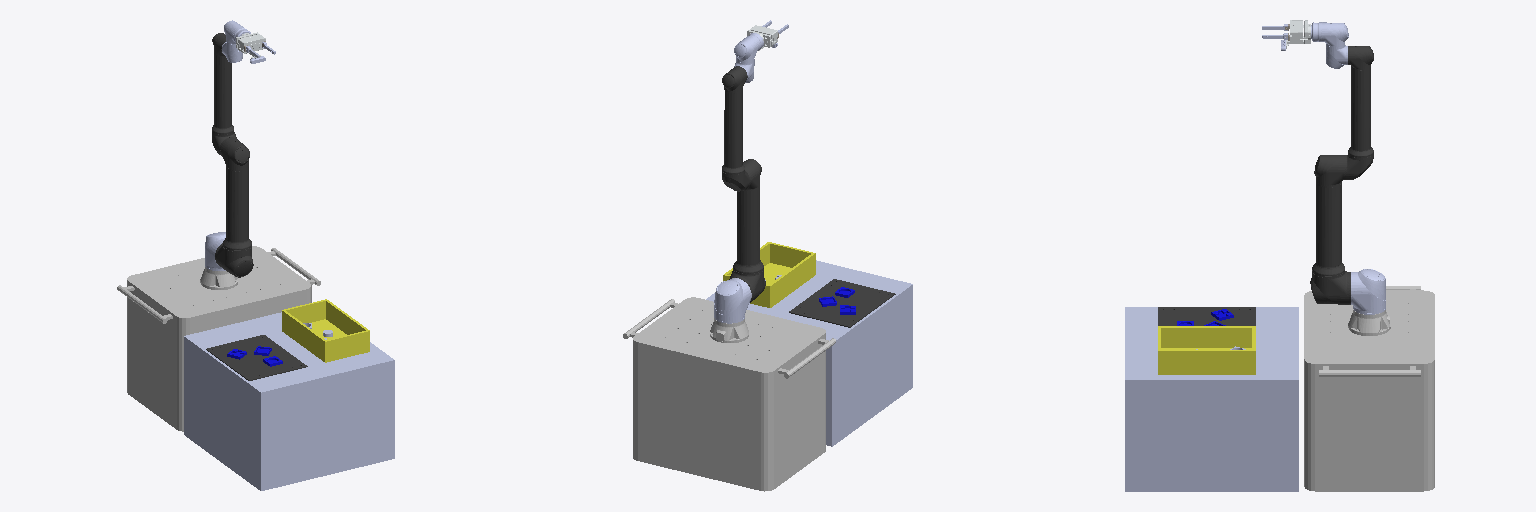
--- Facts derived from the render (not from the file) ---
Views: 3 orthographic renders of the robot side by side, from view 1: azimuth 30°, elevation 25°; view 2: azimuth 150°, elevation 25°; view 3: azimuth 270°, elevation 25°.
Model keti_robot_arm with 26 links and 25 joints (6 revolute, 2 prismatic, 17 fixed), rooted at world, posed all joints at 0.
Visible links, largest first — view 1: table, base, pick, link2, place, link3, base_link, link1; view 2: base, table, link2, pick, link3, place, link1, base_link; view 3: table, base, pick, link2, link3, place, link1, base_link, link5.
Link boxes in pixels (x1,y1,x2,y2): table: (184, 312, 394, 490); base: (117, 246, 320, 431); pick: (282, 299, 369, 362); link2: (215, 138, 253, 277); place: (206, 335, 307, 380); link3: (212, 33, 237, 155); base_link: (200, 267, 237, 289); link1: (205, 232, 225, 270); base: (623, 297, 835, 491); table: (706, 260, 912, 446); link2: (729, 159, 765, 302); pick: (723, 242, 815, 307); link3: (722, 66, 750, 191); place: (789, 279, 895, 327); link1: (714, 278, 751, 323); base_link: (710, 318, 748, 342); table: (1125, 307, 1298, 491); base: (1304, 286, 1434, 491); pick: (1158, 326, 1255, 374); link2: (1310, 155, 1350, 304); link3: (1345, 46, 1373, 179); place: (1158, 307, 1255, 325); link1: (1351, 269, 1385, 314); base_link: (1348, 309, 1390, 335); link5: (1322, 22, 1348, 46).
Bounding box of the posed robot: 0.95 × 1.43 × 2.19 m (x, y, z).
Meshes: 23 distinct files referenced, 23 mesh visuals loaded (23 binary STL).

URDF robot description (keti_robot_arm):
<?xml version="1.0" ?>
<!-- =================================================================================== -->
<!-- |    This document was autogenerated by xacro from [local-path]/Project/4_SDK_challenge/2023/ros_ws/src/sdk_challenge/keti_robot_description/urdf/keti_robot_description.xacro | -->
<!-- |    EDITING THIS FILE BY HAND IS NOT RECOMMENDED                                 | -->
<!-- =================================================================================== -->
<robot name="keti_robot_arm" xmlns:controller="http://playerstage.sourceforge.net/gazebo/xmlschema/#controller" xmlns:interface="http://playerstage.sourceforge.net/gazebo/xmlschema/#interface" xmlns:sensor="http://playerstage.sourceforge.net/gazebo/xmlschema/#sensor">
    <link name="world" />
    <joint name="base_joint" type="fixed">
        <origin rpy="0 0 0" xyz="0 0 0.6499999761581421" />
        <parent link="world" />
        <child link="base_link" />
    </joint>
    <link name="base_link">
        <inertial>
            <origin rpy="0.0 0.0 0.0" xyz="-3.36084696400674E-05 0.00028713387556778 0.0438378186374772" />
            <mass value="2.25213983841171" />
            <inertia ixx="0.00610179267270193" ixy="5.05489700638155E-06" ixz="-2.06579420136556E-06" iyy="0.00603383828429949" iyz="-2.85750001496908E-06" izz="0.00860649294977137" />
        </inertial>
        <visual name="">
            <origin rpy="0.0 0.0 0.0" xyz="0.0 0.0 0.0" />
            <geometry>
                <mesh filename="package://keti_robot_description/meshes/base_link.STL" />
            </geometry>
            <material name="">
                <color rgba="0.8 0.8 0.8 1" />
            </material>
        </visual>
        <collision>
            <origin rpy="0.0 0.0 0.0" xyz="0.0 0.0 0.0" />
            <geometry>
                <mesh filename="package://keti_robot_description/meshes/base_link.STL" />
            </geometry>
        </collision>
    </link>
    <link name="link1">
        <inertial>
            <origin rpy="0.0 0.0 0.0" xyz="-0.000155596593394897 -0.0115300991030924 0.185903011387218" />
            <mass value="3.38716123949166" />
            <inertia ixx="0.00965712344078406" ixy="2.56321142215039E-06" ixz="-2.07213259316219E-06" iyy="0.00999757711288239" iyz="0.00227412846191921" izz="0.00985394828837277" />
        </inertial>
        <visual name="">
            <origin rpy="0.0 0.0 0.0" xyz="0.0 0.0 0.0" />
            <geometry>
                <mesh filename="package://keti_robot_description/meshes/link1.STL" />
            </geometry>
            <material name="">
				<color rgba="0.792156862745098 0.819607843137255 0.933333333333333 1" />
            </material>
        </visual>
        <collision>
            <origin rpy="0.0 0.0 0.0" xyz="0.0 0.0 0.0" />
            <geometry>
                <mesh filename="package://keti_robot_description/meshes/link1.STL" />
            </geometry>
        </collision>
    </link>
    <link name="link2">
        <inertial>
            <origin rpy="0.0 0.0 0.0" xyz="-5.04047652291201E-05 -0.255908501214572 -0.182094524542086" />
            <mass value="10.3635885023069" />
            <inertia ixx="0.120627099316039" ixy="2.65066669408744E-06" ixz="2.16897828737298E-06" iyy="0.0227437773556374" iyz="-0.0016029791309899" izz="0.120841683724806" />
        </inertial>
        <visual name="">
            <origin rpy="0.0 0.0 0.0" xyz="0.0 0.0 0.0" />
            <geometry>
                <mesh filename="package://keti_robot_description/meshes/link2.STL" />
            </geometry>
            <material name="">
                <color rgba="0.294117647058824 0.294117647058824 0.294117647058824 1" />
            </material>
        </visual>
        <collision>
            <origin rpy="0.0 0.0 0.0" xyz="0.0 0.0 0.0" />
            <geometry>
                <mesh filename="package://keti_robot_description/meshes/link2.STL" />
            </geometry>
        </collision>
    </link>
    <link name="link3">
        <inertial>
            <origin rpy="0.0 0.0 0.0" xyz="0.266215180264014 1.29712622268241E-07 0.143135404945513" />
            <mass value="5.05083741641896" />
            <inertia ixx="0.00628902623789062" ixy="9.1337717733775E-09" ixz="-0.000370519945348952" iyy="0.061756757690725" iyz="-1.56347717729795E-09" izz="0.0618362170084191" />
        </inertial>
        <visual name="">
            <origin rpy="0.0 0.0 0.0" xyz="0.0 0.0 0.0" />
            <geometry>
                <mesh filename="package://keti_robot_description/meshes/link3.STL" />
            </geometry>
            <material name="">
                <color rgba="0.294117647058824 0.294117647058824 0.294117647058824 1" />
            </material>
        </visual>
        <collision>
            <origin rpy="0.0 0.0 0.0" xyz="0.0 0.0 0.0" />
            <geometry>
                <mesh filename="package://keti_robot_description/meshes/link3.STL" />
            </geometry>
        </collision>
    </link>
    <link name="link4">
        <inertial>
            <origin rpy="0.0 0.0 0.0" xyz="0.00564731690989118 -2.03600273793181E-07 -0.111294177443476" />
            <mass value="0.809634247265308" />
            <inertia ixx="0.000806283674225212" ixy="-1.71998154303632E-08" ixz="0.000215199499704635" iyy="0.000838076862135837" iyz="-7.62439682589746E-09" izz="0.00088136714943862" />
        </inertial>
        <visual name="">
            <origin rpy="0.0 0.0 0.0" xyz="0.0 0.0 0.0" />
            <geometry>
                <mesh filename="package://keti_robot_description/meshes/link4.STL" />
            </geometry>
            <material name="">
                <color rgba="0.792156862745098 0.819607843137255 0.933333333333333 1" />
                <texture filename="" />
            </material>
        </visual>
        <collision>
            <origin rpy="0.0 0.0 0.0" xyz="0.0 0.0 0.0" />
            <geometry>
                <mesh filename="package://keti_robot_description/meshes/link4.STL" />
            </geometry>
        </collision>
    </link>
    <link name="link5">
        <inertial>
            <origin rpy="0.0 0.0 0.0" xyz="3.79221289037446E-07 -0.0065154111458714 0.111384778201544" />
            <mass value="0.822358399005338" />
            <inertia ixx="0.00086697648332544" ixy="-4.3209208438896E-09" ixz="-3.43499554605311E-09" iyy="0.00082200885145279" iyz="0.000222523008866456" izz="0.000907682647219081" />
        </inertial>
        <visual name="">
            <origin rpy="0.0 0.0 0.0" xyz="0.0 0.0 0.0" />
            <geometry>
                <mesh filename="package://keti_robot_description/meshes/link5.STL" />
            </geometry>
            <material name="">
                <color rgba="0.792156862745098 0.819607843137255 0.933333333333333 1" />
                <texture filename="" />
            </material>
        </visual>
        <collision>
            <origin rpy="0.0 0.0 0.0" xyz="0.0 0.0 0.0" />
            <geometry>
                <mesh filename="package://keti_robot_description/meshes/link5.STL" />
            </geometry>
        </collision>
    </link>
    <link name="link6">
        <inertial>
            <origin rpy="0.0 0.0 0.0" xyz="-2.74288486201701E-07 -0.000235269428608742 -0.0906803365828259" />
            <mass value="0.237678022472349" />
            <inertia ixx="0.000145950216129124" ixy="-1.23036106344042E-09" ixz="-7.04161447052051E-10" iyy="0.000148314461323765" iyz="5.7765854614293E-07" izz="0.000234953691644831" />
        </inertial>
        <visual name="">
            <origin rpy="0.0 0.0 0.0" xyz="0.0 0.0 0.0" />
            <geometry>
                <mesh filename="package://keti_robot_description/meshes/link6.STL" />
            </geometry>
            <material name="">
                <color rgba="0.792156862745098 0.819607843137255 0.933333333333333 1" />
			</material>
        </visual>
        <collision>
            <origin rpy="0.0 0.0 0.0" xyz="0.0 0.0 0.0" />
            <geometry>
                <mesh filename="package://keti_robot_description/meshes/link6.STL" />
            </geometry>
        </collision>
    </link>
    <joint name="q1" type="revolute">
        <origin rpy="0.0 0.0 0.0" xyz="0.0 0.0 0.0" />
        <parent link="base_link" />
        <child link="link1" />
        <axis xyz="0.0 0.0 1.0" />
        <limit effort="10" lower="-6.3" upper="6.3" velocity="100" />
        <dynamics damping="50" friction="1" />
    </joint>
    <joint name="q2" type="revolute">
        <origin rpy="-1.5708 0.0 0.0" xyz="0.0 0.0 0.198" />
        <parent link="link1" />
        <child link="link2" />
        <axis xyz="0.0 0.0 1.0" />
        <limit effort="1000" lower="-6.3" upper="6.3" velocity="100" />
        <dynamics damping="50" friction="1" />
    </joint>
    <joint name="q3" type="revolute">
        <origin rpy="0.0 0.0 -1.5708" xyz="0.0 -0.6127 -0.1875" />
        <parent link="link2" />
        <child link="link3" />
        <axis xyz="0.0 0.0 1.0" />
        <limit effort="10" lower="-6.3" upper="6.3" velocity="100" />
        <dynamics damping="50" friction="1" />
    </joint>
    <joint name="q4" type="revolute">
        <origin rpy="0.0 0.0 0.0" xyz="0.57015 0 0.1484" />
        <parent link="link3" />
        <child link="link4" />
        <axis xyz="0.0 0.0 1.0" />
        <limit effort="10" lower="-6.3" upper="6.3" velocity="100" />
        <dynamics damping="50" friction="1" />
    </joint>
    <joint name="q5" type="revolute">
        <origin rpy="1.5708 0 1.5708" xyz="0 0 -0.11715" />
        <parent link="link4" />
        <child link="link5" />
        <axis xyz="0.0 0.0 1.0" />
        <limit effort="10" lower="-6.3" upper="6.3" velocity="100" />
        <dynamics damping="50" friction="1" />
    </joint>
    <joint name="q6" type="revolute">
        <origin rpy="-1.5708 0 0" xyz="0 0 0.11715" />
        <parent link="link5" />
        <child link="link6" />
        <axis xyz="0.0 0.0 1.0" />
        <limit effort="10" lower="-6.3" upper="6.3" velocity="100" />
        <dynamics damping="50" friction="1" />
    </joint>
    <link name="gripper_body">
        <inertial>
            <origin rpy="0.0 0.0 0.0" xyz="-3.45920909952668E-05 -0.0477817173459312 -0.00571131983067263" />
            <mass value="0.933264814357233" />
            <inertia ixx="0.000450791407921585" ixy="4.50924518749628E-07" ixz="-7.44739815604934E-07" iyy="0.00142129108945366" iyz="-3.93915847422977E-06" izz="0.00128066984792434" />
        </inertial>
        <visual name="">
            <origin rpy="0.0 0.0 0.0" xyz="0.0 0.0 0.0" />
            <geometry>
                <mesh filename="package://keti_robot_description/meshes/gripper_body.STL" />
            </geometry>
            <material name="">
                <color rgba="0.898039215686275 0.917647058823529 0.929411764705882 1" />
            </material>
        </visual>
        <collision>
            <origin rpy="0.0 0.0 0.0" xyz="0.0 0.0 0.0" />
            <geometry>
                <mesh filename="package://keti_robot_description/meshes/gripper_body.STL" />
            </geometry>
        </collision>
    </link>
    <link name="gripper_tool1">
        <inertial>
            <origin rpy="0.0 0.0 0.0" xyz="-0.0503901981194649 -0.00839540838169439 -0.000187095087317068" />
            <mass value="0.0524980209707729" />
            <inertia ixx="4.96961994940061E-06" ixy="9.16328438600949E-07" ixz="-9.29191075202697E-08" iyy="5.26806301784339E-06" iyz="3.76648518766332E-08" izz="4.33143562379133E-06" />
        </inertial>
        <visual name="">
            <origin rpy="0.0 0.0 0.0" xyz="0.0 0.0 0.0" />
            <geometry>
                <mesh filename="package://keti_robot_description/meshes/gripper_tool1.STL" />
            </geometry>
            <material name="">
                <color rgba="0.650980392156863 0.619607843137255 0.588235294117647 1" />
            </material>
        </visual>
        <collision>
            <origin rpy="0.0 0.0 0.0" xyz="0.0 0.0 0.0" />
            <geometry>
                <mesh filename="package://keti_robot_description/meshes/gripper_tool1.STL" />
            </geometry>
        </collision>
    </link>
    <link name="gripper_finger1">
        <inertial>
            <origin rpy="0.0 0.0 0.0" xyz="-0.047830477436016 -0.0616732966021152 -4.02028360380058E-07" />
            <mass value="0.0233180451311379" />
            <inertia ixx="2.40087905135542E-05" ixy="3.97733646582783E-07" ixz="-1.76194958848478E-12" iyy="1.26145385442102E-06" iyz="-3.65200575464404E-11" izz="2.34253553003692E-05" />
        </inertial>
        <visual name="">
            <origin rpy="0.0 0.0 0.0" xyz="0.0 0.0 0.0" />
            <geometry>
                <mesh filename="package://keti_robot_description/meshes/gripper_finger1.STL" />
            </geometry>
            <material name="">
                <color rgba="0.792156862745098 0.819607843137255 0.933333333333333 1" />
            </material>
        </visual>
        <collision>
            <origin rpy="0.0 0.0 0.0" xyz="0.0 0.0 0.0" />
            <geometry>
                <mesh filename="package://keti_robot_description/meshes/gripper_finger1.STL" />
            </geometry>
        </collision>
    </link>
    <link name="gripper_tool2">
        <inertial>
            <origin rpy="0.0 0.0 0.0" xyz="0.050390198119466 -0.00839540838169439 0.000187095087317957" />
            <mass value="0.052498020970773" />
            <inertia ixx="4.96961994940061E-06" ixy="-9.1632843860095E-07" ixz="-9.29191075202696E-08" iyy="5.2680630178434E-06" iyz="-3.76648518766344E-08" izz="4.33143562379133E-06" />
        </inertial>
        <visual name="">
            <origin rpy="0.0 0.0 0.0" xyz="0.0 0.0 0.0" />
            <geometry>
                <mesh filename="package://keti_robot_description/meshes/gripper_tool2.STL" />
            </geometry>
            <material name="">
                <color rgba="0.650980392156863 0.619607843137255 0.588235294117647 1" />
            </material>
        </visual>
        <collision>
            <origin rpy="0.0 0.0 0.0" xyz="0.0 0.0 0.0" />
            <geometry>
                <mesh filename="package://keti_robot_description/meshes/gripper_tool2.STL" />
            </geometry>
        </collision>
    </link>
    <link name="gripper_finger2">
        <inertial>
            <origin rpy="0.0 0.0 0.0" xyz="0.0478304774360172 -0.0616732966021147 4.02028361046192E-07" />
            <mass value="0.0233180451311379" />
            <inertia ixx="2.40087905135545E-05" ixy="-3.97733646582811E-07" ixz="-1.7619495854565E-12" iyy="1.26145385442102E-06" iyz="3.6520057602396E-11" izz="2.34253553003694E-05" />
        </inertial>
        <visual name="">
            <origin rpy="0.0 0.0 0.0" xyz="0.0 0.0 0.0" />
            <geometry>
                <mesh filename="package://keti_robot_description/meshes/gripper_finger2.STL" />
            </geometry>
            <material name="">
                <color rgba="0.792156862745098 0.819607843137255 0.933333333333333 1" />
            </material>
        </visual>
        <collision>
            <origin rpy="0.0 0.0 0.0" xyz="0.0 0.0 0.0" />
            <geometry>
                <mesh filename="package://keti_robot_description/meshes/gripper_finger2.STL" />
            </geometry>
        </collision>
    </link>
    <link name="cam_body">
        <inertial>
            <origin rpy="0 0 0" xyz="0.0014399625101349 -5.94806382812063E-05 -0.0144824351521329" />
            <mass value="0.0224324424296924" />
            <inertia ixx="1.5561270767764E-06" ixy="-1.37007630764484E-09" ixz="1.48641223628634E-07" iyy="1.39866481202687E-05" iyz="-2.3852444733374E-09" izz="1.4977644157627E-05" />
        </inertial>
        <visual name="">
            <origin rpy="0 0 0" xyz="0 0 0" />
            <geometry>
                <mesh filename="package://keti_robot_description/meshes/cam.STL" />
            </geometry>
            <material name="">
                <color rgba="0.792156862745098 0.819607843137255 0.933333333333333 1" />
            </material>
        </visual>
        <collision>
            <origin rpy="0 0 0" xyz="0 0 0" />
            <geometry>
                <mesh filename="package://keti_robot_description/meshes/cam.STL" />
            </geometry>
        </collision>
    </link>
    <joint name="link6_gripper_fixed" type="fixed">
        <origin rpy="1.5708 0.0 0.0" xyz="0.0 0.0 -0.1148" />
        <parent link="link6" />
        <child link="gripper_body" />
    </joint>
    <joint name="s1" type="prismatic">
        <origin rpy="0.0 0.0 0.0" xyz="0.0 -0.0962 0.0" />
        <parent link="gripper_body" />
        <child link="gripper_tool1" />
        <axis xyz="1.0 0.0 0.0" />
        <limit effort="10" lower="0.0" upper="0.04" velocity="100" />
        <dynamics damping="50" friction="1" />
    </joint>
    <joint name="tool_finger1_fixed" type="fixed">
        <origin rpy="0.0 0.0 0.0" xyz="0.0 0.0 0.0" />
        <parent link="gripper_tool1" />
        <child link="gripper_finger1" />
    </joint>
    <joint name="s2" type="prismatic">
        <origin rpy="0.0 0.0 0.0" xyz="0.0 -0.0962 0.0" />
        <parent link="gripper_body" />
        <child link="gripper_tool2" />
        <axis xyz="-1.0 0.0 0.0" />
        <limit effort="10" lower="0.0" upper="0.04" velocity="100" />
        <dynamics damping="50" friction="1" />
    </joint>
    <joint name="tool_finger2_fixed" type="fixed">
        <origin rpy="0.0 0.0 0.0" xyz="0.0 0.0 0.0" />
        <parent link="gripper_tool2" />
        <child link="gripper_finger2" />
    </joint>
    <joint name="gripper_cam_fixed" type="fixed">
        <origin rpy="1.5708 0 0" xyz="0 -0.13845 -0.0685" />
        <parent link="gripper_body" />
        <child link="cam_body" />
    </joint>
    <link name="cam" />
    <joint name="cam_joint" type="fixed">
        <origin rpy="-1.5708 -1.5708 3.141592" xyz="0 0 0" />
        <parent link="cam_body" />
        <child link="cam" />
    </joint>
    <link name="cam_optical" />
    <joint name="cam_optical_joint" type="fixed">
        <origin rpy="-1.57 0.0 -1.57" xyz="0.0 0.0 0.0" />
        <parent link="cam" />
        <child link="cam_optical" />
    </joint>
    <gazebo reference="cam">
        <sensor name="Realsense" type="camera">
            <always_on>true</always_on>
            <visualize>true</visualize>
            <camera>
                <horizontal_fov>1.085595</horizontal_fov>
                <image>
                    <width>640</width>
                    <height>480</height>
                    <format>R8G8B8</format>
                </image>
                <clip>
                    <near>0.03</near>
                    <far>100</far>
                </clip>
            </camera>
            <plugin filename="libgazebo_ros_camera.so" name="camera_controller">
                <alwyasOn>true</alwyasOn>
                <updateRate>30.0</updateRate>
                <cameraName>camera</cameraName>
                <frameName>cam_optical</frameName>
                <imageTopicName>rgb/image_raw</imageTopicName>
                <cameraInfoTopicName>rgb/camera_info</cameraInfoTopicName>
                <hackBaselink>0.07</hackBaselink>
                <distortionK1>0.0</distortionK1>
                <distortionK2>0.0</distortionK2>
                <distortionK3>0.0</distortionK3>
                <distortionT1>0.0</distortionT1>
                <distortionT2>0.0</distortionT2>
            </plugin>
        </sensor>
        <plugin name="gazebo_ros_control">
            <robotNamespace>/</robotNamespace>
        </plugin>
    </gazebo>
    <link name="base">
        <inertial>
            <origin rpy="0.0 0.0 0.0" xyz="-1.28688321068826E-06 0.000310942291804728 -0.323288844730514" />
            <mass value="838.015231637391" />
            <inertia ixx="54.3575108059622" ixy="-3.81584107573326E-15" ixz="6.11415690387546E-16" iyy="74.0754281872674" iyz="6.12342523382769E-17" izz="69.561169810993" />
        </inertial>
        <visual name="">
            <origin rpy="0.0 0.0 0.0" xyz="0.0 0.0 0.0" />
            <geometry>
                <mesh filename="package://keti_robot_description/meshes/base.STL" />
            </geometry>
            <material name="">
                <color rgba="0.8 0.8 0.8 1" />
            </material>
        </visual>
        <collision>
            <origin rpy="0.0 0.0 0.0" xyz="0.0 0.0 0.0" />
            <geometry>
                <mesh filename="package://keti_robot_description/meshes/base.STL" />
            </geometry>
        </collision>
	</link>
    <link name="place">
        <inertial>
            <origin rpy="0 0 0" xyz="-0.210001286883211 -0.749689057708196 -0.0805000000000003" />
            <mass value="0.785447283360145" />
            <inertia ixx="0.0132205587747909" ixy="1.32472975100367E-18" ixz="2.03192199097574E-21" iyy="0.0080030601215886" iyz="6.46234853556509E-24" izz="0.0212203461993655" />
        </inertial>
        <visual>
            <origin rpy="0 0 0" xyz="0 0 0" />
            <geometry>
                <mesh filename="package://keti_robot_description/meshes/place.STL" />
            </geometry>
			<material name="">
				<color rgba="0.3 0.3 0.3 1" />
			</material>
        </visual>
        <collision>
            <origin rpy="0 0 0" xyz="0 0 0" />
            <geometry>
                <mesh filename="package://keti_robot_description/meshes/place.STL" />
            </geometry>
        </collision>
	</link>
    <joint name="base_plate_fixed" type="fixed">
        <origin rpy="0 0 0" xyz="0 0 0" />
        <parent link="base_link" />
        <child link="place" />
    </joint>
    <link name="place_cross">
        <inertial>
            <origin rpy="0 0 0" xyz="0 -2.22044604925031E-16 0.00632920795289479" />
            <mass value="0.0578280000000003" />
            <inertia ixx="3.42810502491726E-05" ixy="1.78360819581747E-21" ixz="3.18948076485842E-20" iyy="3.42810502491724E-05" iyz="9.25119797073764E-22" izz="6.63513947000005E-05" />
        </inertial>
        <visual>
            <origin rpy="0 0 0.52" xyz="0 0 0" />
            <geometry>
                <mesh filename="package://keti_robot_description/meshes/place_cross.STL" />
            </geometry>
            <material name="">
                <color rgba="0.1 0.1 0.933333333333333 1" />
            </material>
        </visual>
        <collision>
            <origin rpy="0 0 0" xyz="0 0 0" />
            <geometry>
                <mesh filename="package://keti_robot_description/meshes/place_cross.STL" />
            </geometry>
        </collision>
    </link>
    <joint name="place_cross_fixed" type="fixed">
        <origin rpy="0 0 0" xyz="-0.28511 -0.67677 -0.078" />
        <parent link="place" />
        <child link="place_cross" />
    </joint>
    <link name="place_circle">
        <inertial>
            <origin rpy="0 0 0" xyz="-1.38777878078145E-17 0 0.00633087207893085" />
            <mass value="0.0577456825709279" />
            <inertia ixx="3.50125843490266E-05" ixy="-1.75505226671088E-21" ixz="3.33474887313518E-20" iyy="3.50125843490264E-05" iyz="4.75888101417994E-22" izz="6.78100728333874E-05" />
        </inertial>
        <visual>
            <origin rpy="0 0 0" xyz="0 0 0" />
            <geometry>
                <mesh filename="package://keti_robot_description/meshes/place_circle.STL" />
            </geometry>
            <material name="">
                <color rgba="0.1 0.1 0.933333333333333 1" />
            </material>
        </visual>
        <collision>
            <origin rpy="0 0 0" xyz="0 0 0" />
            <geometry>
                <mesh filename="package://keti_robot_description/meshes/place_circle.STL" />
            </geometry>
        </collision>
    </link>
    <joint name="place_circle_rixed" type="fixed">
        <origin rpy="0 0 0" xyz="-0.16925 -0.84711 -0.078" />
        <parent link="place" />
        <child link="place_circle" />
    </joint>
    <link name="place_rectangle">
        <inertial>
            <origin rpy="0 0 0" xyz="6.93889390390723E-18 0 0.00492506066510467" />
            <mass value="0.0418280000000002" />
            <inertia ixx="2.51335188313047E-05" ixy="-4.78949338497427E-21" ixz="-3.67398477789802E-22" iyy="2.51335188313045E-05" iyz="-7.51373122444433E-22" izz="4.89191280333338E-05" />
        </inertial>
        <visual>
            <origin rpy="0 0 0.79" xyz="0 0 0" />
            <geometry>
                <mesh filename="package://keti_robot_description/meshes/place_rectangle.STL" />
            </geometry>
            <material name="">
                <color rgba="0.1 0.1 0.933333333333333 1" />
            </material>
        </visual>
        <collision>
            <origin rpy="0 0 0" xyz="0 0 0" />
            <geometry>
                <mesh filename="package://keti_robot_description/meshes/place_rectangle.STL" />
            </geometry>
        </collision>
    </link>
    <joint name="place_rectangle_fixed" type="fixed">
        <origin rpy="0 0 0" xyz="-0.15072 -0.71284 -0.078" />
        <parent link="place" />
        <child link="place_rectangle" />
        <axis xyz="0 0 0" />
    </joint>
    <link name="pick">
        <inertial>
            <origin rpy="0 0 0" xyz="0.204998713116789 -0.749689057708195 -0.0428648648648652" />
            <mass value="4.07592" />
            <inertia ixx="0.0979734755675673" ixy="-7.99274219726029E-18" ixz="-1.12613192894528E-18" iyy="0.0442374275675675" iyz="-1.73250152083534E-17" izz="0.13078746" />
        </inertial>
        <visual>
            <origin rpy="0 0 0" xyz="0 0 0" />
            <geometry>
                <mesh filename="package://keti_robot_description/meshes/pick.STL" />
            </geometry>
            <material name="">
                <color rgba="0.9 0.9 0.3 1" />
            </material>
        </visual>
        <collision>
            <origin rpy="0 0 0" xyz="0 0 0" />
            <geometry>
                <mesh filename="package://keti_robot_description/meshes/pick.STL" />
            </geometry>
        </collision>
    </link>
    <joint name="base_pick_fixed" type="fixed">
        <origin rpy="0 0 0" xyz="0 0 0" />
        <parent link="base_link" />
        <child link="pick" />
    </joint>
    <link name="pick_cross">
        <inertial>
            <origin rpy="0 0 0" xyz="0 0 0.01" />
            <mass value="0.0400000000000002" />
            <inertia ixx="9.06666666666675E-06" ixy="-1.97213547269696E-20" ixz="-6.47231336187252E-23" iyy="9.06666666666671E-06" iyz="-2.44695634235106E-22" izz="1.54666666666668E-05" />
        </inertial>
        <visual>
            <origin rpy="0 0 0" xyz="0 0 0" />
            <geometry>
                <mesh filename="package://keti_robot_description/meshes/pick_cross.STL" />
            </geometry>
            <material name="">
                <color rgba="0.792156862745098 0.819607843137255 0.933333333333333 1" />
            </material>
        </visual>
        <collision>
            <origin rpy="0 0 0" xyz="0 0 0" />
            <geometry>
                <mesh filename="package://keti_robot_description/meshes/pick_cross.STL" />
            </geometry>
        </collision>
    </link>
    <joint name="pick_cross_fixed" type="fixed">
        <origin rpy="0 0 0" xyz="0.16702 -0.80412 -0.068" />
        <parent link="pick" />
        <child link="pick_cross" />
    </joint>
    <link name="pick_circle">
        <inertial>
            <origin rpy="0 0 0" xyz="0 0 0.0100000000000001" />
            <mass value="0.0441236688196687" />
            <inertia ixx="9.21725056780871E-06" ixy="1.95876369052557E-21" ixz="2.10582221076763E-37" iyy="9.21725056780872E-06" iyz="1.41172157875717E-22" izz="1.54929232143062E-05" />
        </inertial>
        <visual>
            <origin rpy="0 0 0" xyz="0 0 0" />
            <geometry>
                <mesh filename="package://keti_robot_description/meshes/pick_circle.STL" />
            </geometry>
            <material name="">
                <color rgba="0.792156862745098 0.819607843137255 0.933333333333333 1" />
            </material>
        </visual>
        <collision>
            <origin rpy="0 0 0" xyz="0 0 0" />
            <geometry>
                <mesh filename="package://keti_robot_description/meshes/pick_circle.STL" />
            </geometry>
        </collision>
    </link>
    <joint name="pick_circle_fixed" type="fixed">
        <origin rpy="0 0 0" xyz="0.23709 -0.71828 -0.068" />
        <parent link="pick" />
        <child link="pick_circle" />
        <axis xyz="0 0 0" />
    </joint>
    <link name="pick_rectangle">
        <inertial>
            <origin rpy="0 0 0" xyz="5.55111512312578E-17 0 0.015" />
            <mass value="0.0442885009851994" />
            <inertia ixx="2.49543942403889E-05" ixy="-6.57608586979657E-20" ixz="-2.60137572529475E-22" iyy="2.49543942403888E-05" iyz="1.16380977668695E-21" izz="4.32655133329977E-05" />
        </inertial>
        <visual>
            <origin rpy="0 0 0" xyz="0 0 0" />
            <geometry>
                <mesh filename="package://keti_robot_description/meshes/pick_rectangle.STL" />
            </geometry>
            <material name="">
                <color rgba="0.792156862745098 0.819607843137255 0.933333333333333 1" />
            </material>
        </visual>
        <collision>
            <origin rpy="0 0 0" xyz="0 0 0" />
            <geometry>
                <mesh filename="package://keti_robot_description/meshes/pick_rectangle.STL" />
            </geometry>
        </collision>
    </link>
    <joint name="pick_rectangle_fixed" type="fixed">
        <origin rpy="0 0 0" xyz="0.16748 -0.60831 -0.068" />
        <parent link="pick" />
        <child link="pick_rectangle" />
    </joint>
    <link name="table">
        <inertial>
            <origin rpy="0 0 0" xyz="-1.28688321091031E-06 -0.724689057708195 -0.3655" />
            <mass value="361.6" />
            <inertia ixx="28.9046466666667" ixy="-2.16393591768236E-15" ixz="-1.46486195417846E-15" iyy="28.9046466666667" iyz="-1.48173644243146E-15" izz="38.5706666666667" />
        </inertial>
        <visual>
            <origin rpy="0 0 0" xyz="0 0 0" />
            <geometry>
                <mesh filename="package://keti_robot_description/meshes/table.STL" />
            </geometry>
            <material name="">
                <color rgba="0.792156862745098 0.819607843137255 0.933333333333333 1" />
            </material>
        </visual>
        <collision>
            <origin rpy="0 0 0" xyz="0 0 0" />
            <geometry>
                <mesh filename="package://keti_robot_description/meshes/table.STL" />
            </geometry>
        </collision>
    </link>
    <joint name="base_table_fixed" type="fixed">
        <origin rpy="0 0 0" xyz="0 0 0" />
        <parent link="base_link" />
        <child link="table" />
    </joint>
    <joint name="base_fixed" type="fixed">
        <origin rpy="0.0 0.0 0.0" xyz="0.0 0.0 0.0" />
        <parent link="base_link" />
        <child link="base" />
        <axis xyz="0.0 0.0 0.0" />
        <limit effort="0.0" lower="0.0" upper="0.0" velocity="0.0" />
    </joint>
    <transmission name="trans_q1">
        <type>transmission_interface/SimpleTransmission</type>
        <joint name="q1">
            <hardwareInterface>hardware_interface/PositionJointInterface</hardwareInterface>
        </joint>
        <actuator name="q1_motor">
            <hardwareInterface>hardware_interface/PositionJointInterface</hardwareInterface>
            <mechanicalReduction>1</mechanicalReduction>
        </actuator>
    </transmission>
    <transmission name="trans_q2">
        <type>transmission_interface/SimpleTransmission</type>
        <joint name="q2">
            <hardwareInterface>hardware_interface/PositionJointInterface</hardwareInterface>
        </joint>
        <actuator name="q2_motor">
            <hardwareInterface>hardware_interface/PositionJointInterface</hardwareInterface>
            <mechanicalReduction>1</mechanicalReduction>
        </actuator>
    </transmission>
    <transmission name="trans_q3">
        <type>transmission_interface/SimpleTransmission</type>
        <joint name="q3">
            <hardwareInterface>hardware_interface/PositionJointInterface</hardwareInterface>
        </joint>
        <actuator name="q3_motor">
            <hardwareInterface>hardware_interface/PositionJointInterface</hardwareInterface>
            <mechanicalReduction>1</mechanicalReduction>
        </actuator>
    </transmission>
    <transmission name="trans_q4">
        <type>transmission_interface/SimpleTransmission</type>
        <joint name="q4">
            <hardwareInterface>hardware_interface/PositionJointInterface</hardwareInterface>
        </joint>
        <actuator name="q4_motor">
            <hardwareInterface>hardware_interface/PositionJointInterface</hardwareInterface>
            <mechanicalReduction>1</mechanicalReduction>
        </actuator>
    </transmission>
    <transmission name="trans_q5">
        <type>transmission_interface/SimpleTransmission</type>
        <joint name="q5">
            <hardwareInterface>hardware_interface/PositionJointInterface</hardwareInterface>
        </joint>
        <actuator name="q5_motor">
            <hardwareInterface>hardware_interface/PositionJointInterface</hardwareInterface>
            <mechanicalReduction>1</mechanicalReduction>
        </actuator>
    </transmission>
    <transmission name="trans_q6">
        <type>transmission_interface/SimpleTransmission</type>
        <joint name="q6">
            <hardwareInterface>hardware_interface/PositionJointInterface</hardwareInterface>
        </joint>
        <actuator name="q6_motor">
            <hardwareInterface>hardware_interface/PositionJointInterface</hardwareInterface>
            <mechanicalReduction>1</mechanicalReduction>
        </actuator>
    </transmission>
    <transmission name="trans_s1">
        <type>transmission_interface/SimpleTransmission</type>
        <joint name="s1">
            <hardwareInterface>hardware_interface/PositionJointInterface</hardwareInterface>
        </joint>
        <actuator name="s1_motor">
            <hardwareInterface>hardware_interface/PositionJointInterface</hardwareInterface>
            <mechanicalReduction>1</mechanicalReduction>
        </actuator>
    </transmission>
    <transmission name="trans_s2">
        <type>transmission_interface/SimpleTransmission</type>
        <joint name="s2">
            <hardwareInterface>hardware_interface/PositionJointInterface</hardwareInterface>
        </joint>
        <actuator name="s2_motor">
            <hardwareInterface>hardware_interface/PositionJointInterface</hardwareInterface>
            <mechanicalReduction>1</mechanicalReduction>
        </actuator>
    </transmission>
    <gazebo>
        <plugin filename="libgazebo_ros_control.so" name="gazebo_ros_control">
            <robotNamespace>/</robotNamespace>
        </plugin>
    </gazebo>

    <gazebo reference="place">
        <material>Gazebo/Grey</material>
    </gazebo>
    <gazebo reference="place_cross">
        <material>Gazebo/Blue</material>
    </gazebo>
    <gazebo reference="place_circle">
        <material>Gazebo/Blue</material>
    </gazebo>
    <gazebo reference="place_rectangle">
        <material>Gazebo/Blue</material>
    </gazebo>
    <gazebo reference="pick">
        <material>Gazebo/Yellow</material>
    </gazebo>
    <gazebo reference="pick_cross">
        <material>Gazebo/White</material>
    </gazebo>
    <gazebo reference="pick_circle">
        <material>Gazebo/White</material>
    </gazebo>
    <gazebo reference="pick_rectangle">
        <material>Gazebo/White</material>
    </gazebo>

</robot>
